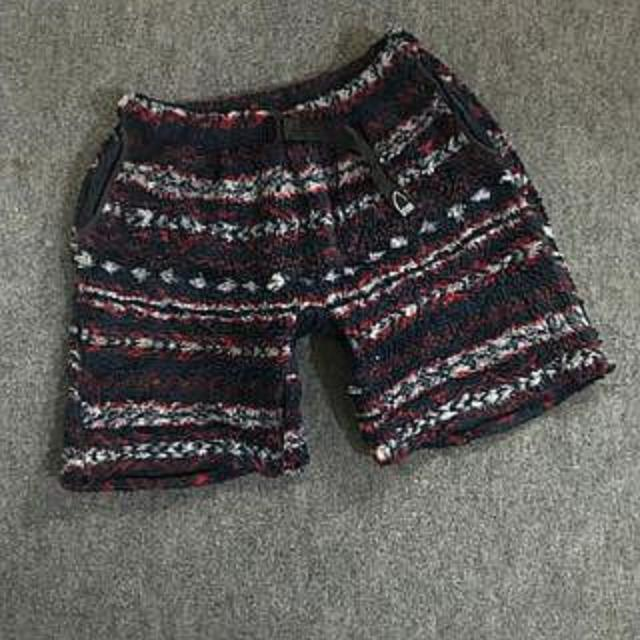SHORT: (39, 20, 626, 515)
